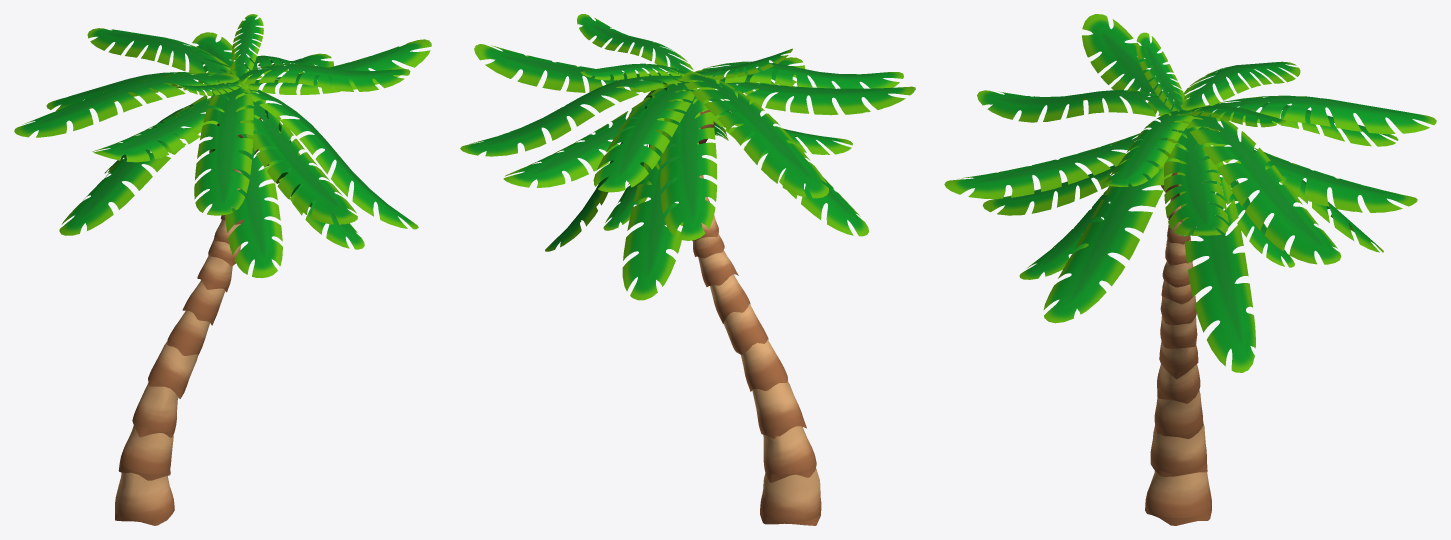
File: PalmTree3.fbx
3 views of the same model, side by side, from view 1: azimuth 30°, elevation 25°; view 2: azimuth 150°, elevation 25°; view 3: azimuth 270°, elevation 25° (orthographic). The views are drawn at different scales.
Visible parts, largest first — view 1: PalmTree1; view 2: PalmTree1; view 3: PalmTree1.
Part boxes in pixels (x1,y1,x2,y2): PalmTree1: [14, 14, 431, 525]; PalmTree1: [460, 14, 915, 525]; PalmTree1: [944, 14, 1436, 525].
Size of the model in its own units: 5.18 by 5.72 by 5.23.
